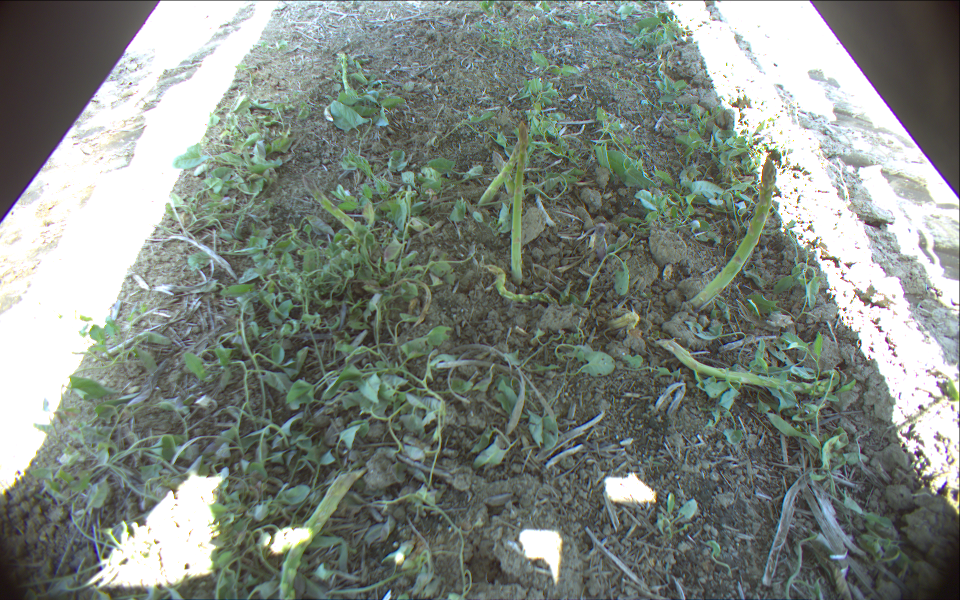aspa: (684, 156, 778, 313), (278, 469, 367, 600), (658, 339, 831, 395), (477, 109, 531, 210), (510, 123, 531, 279), (479, 264, 542, 302), (340, 51, 352, 98)
